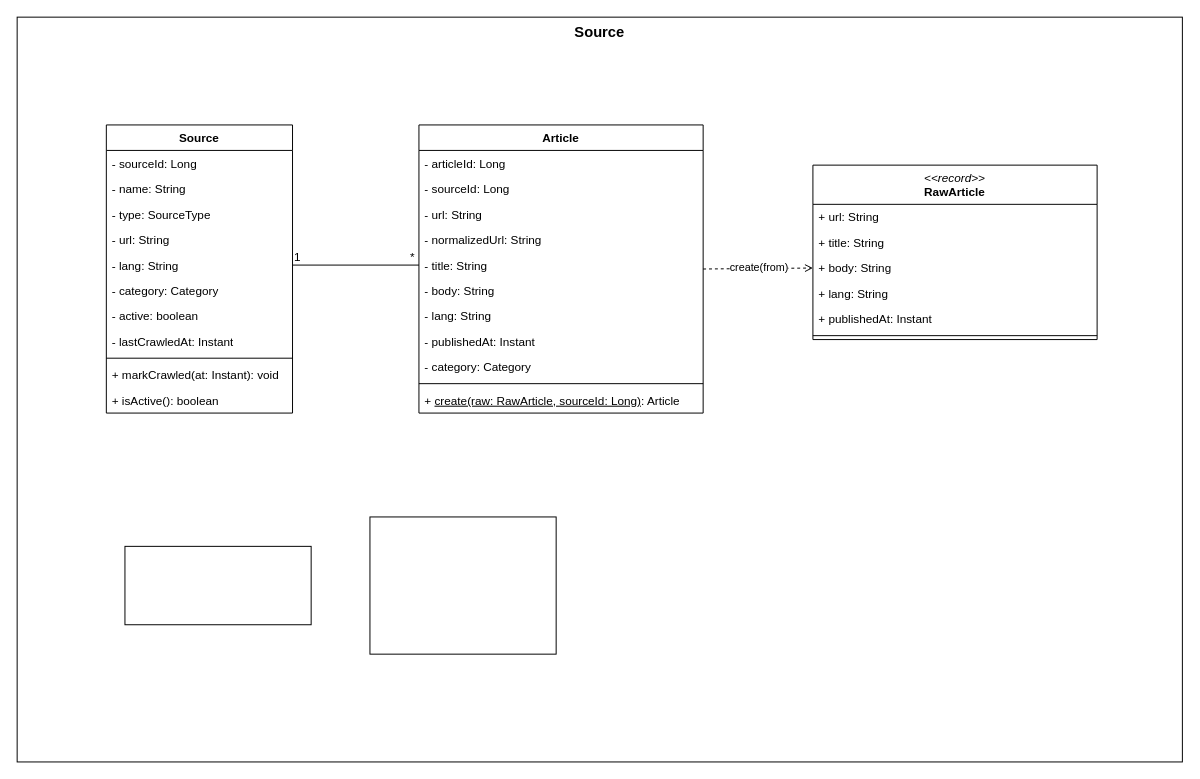
This 1200x779 diagram has some shape labels left out. Here are the shapes that lost their labels. From the top down, the centre of each, then its label:
At point 217,585: "<<enumeration>> SourceType RSS API".
At point 462,585: "<<enumeration>> Category DEV PROGRAMMING AI ML ECONOMY FINANCE".
